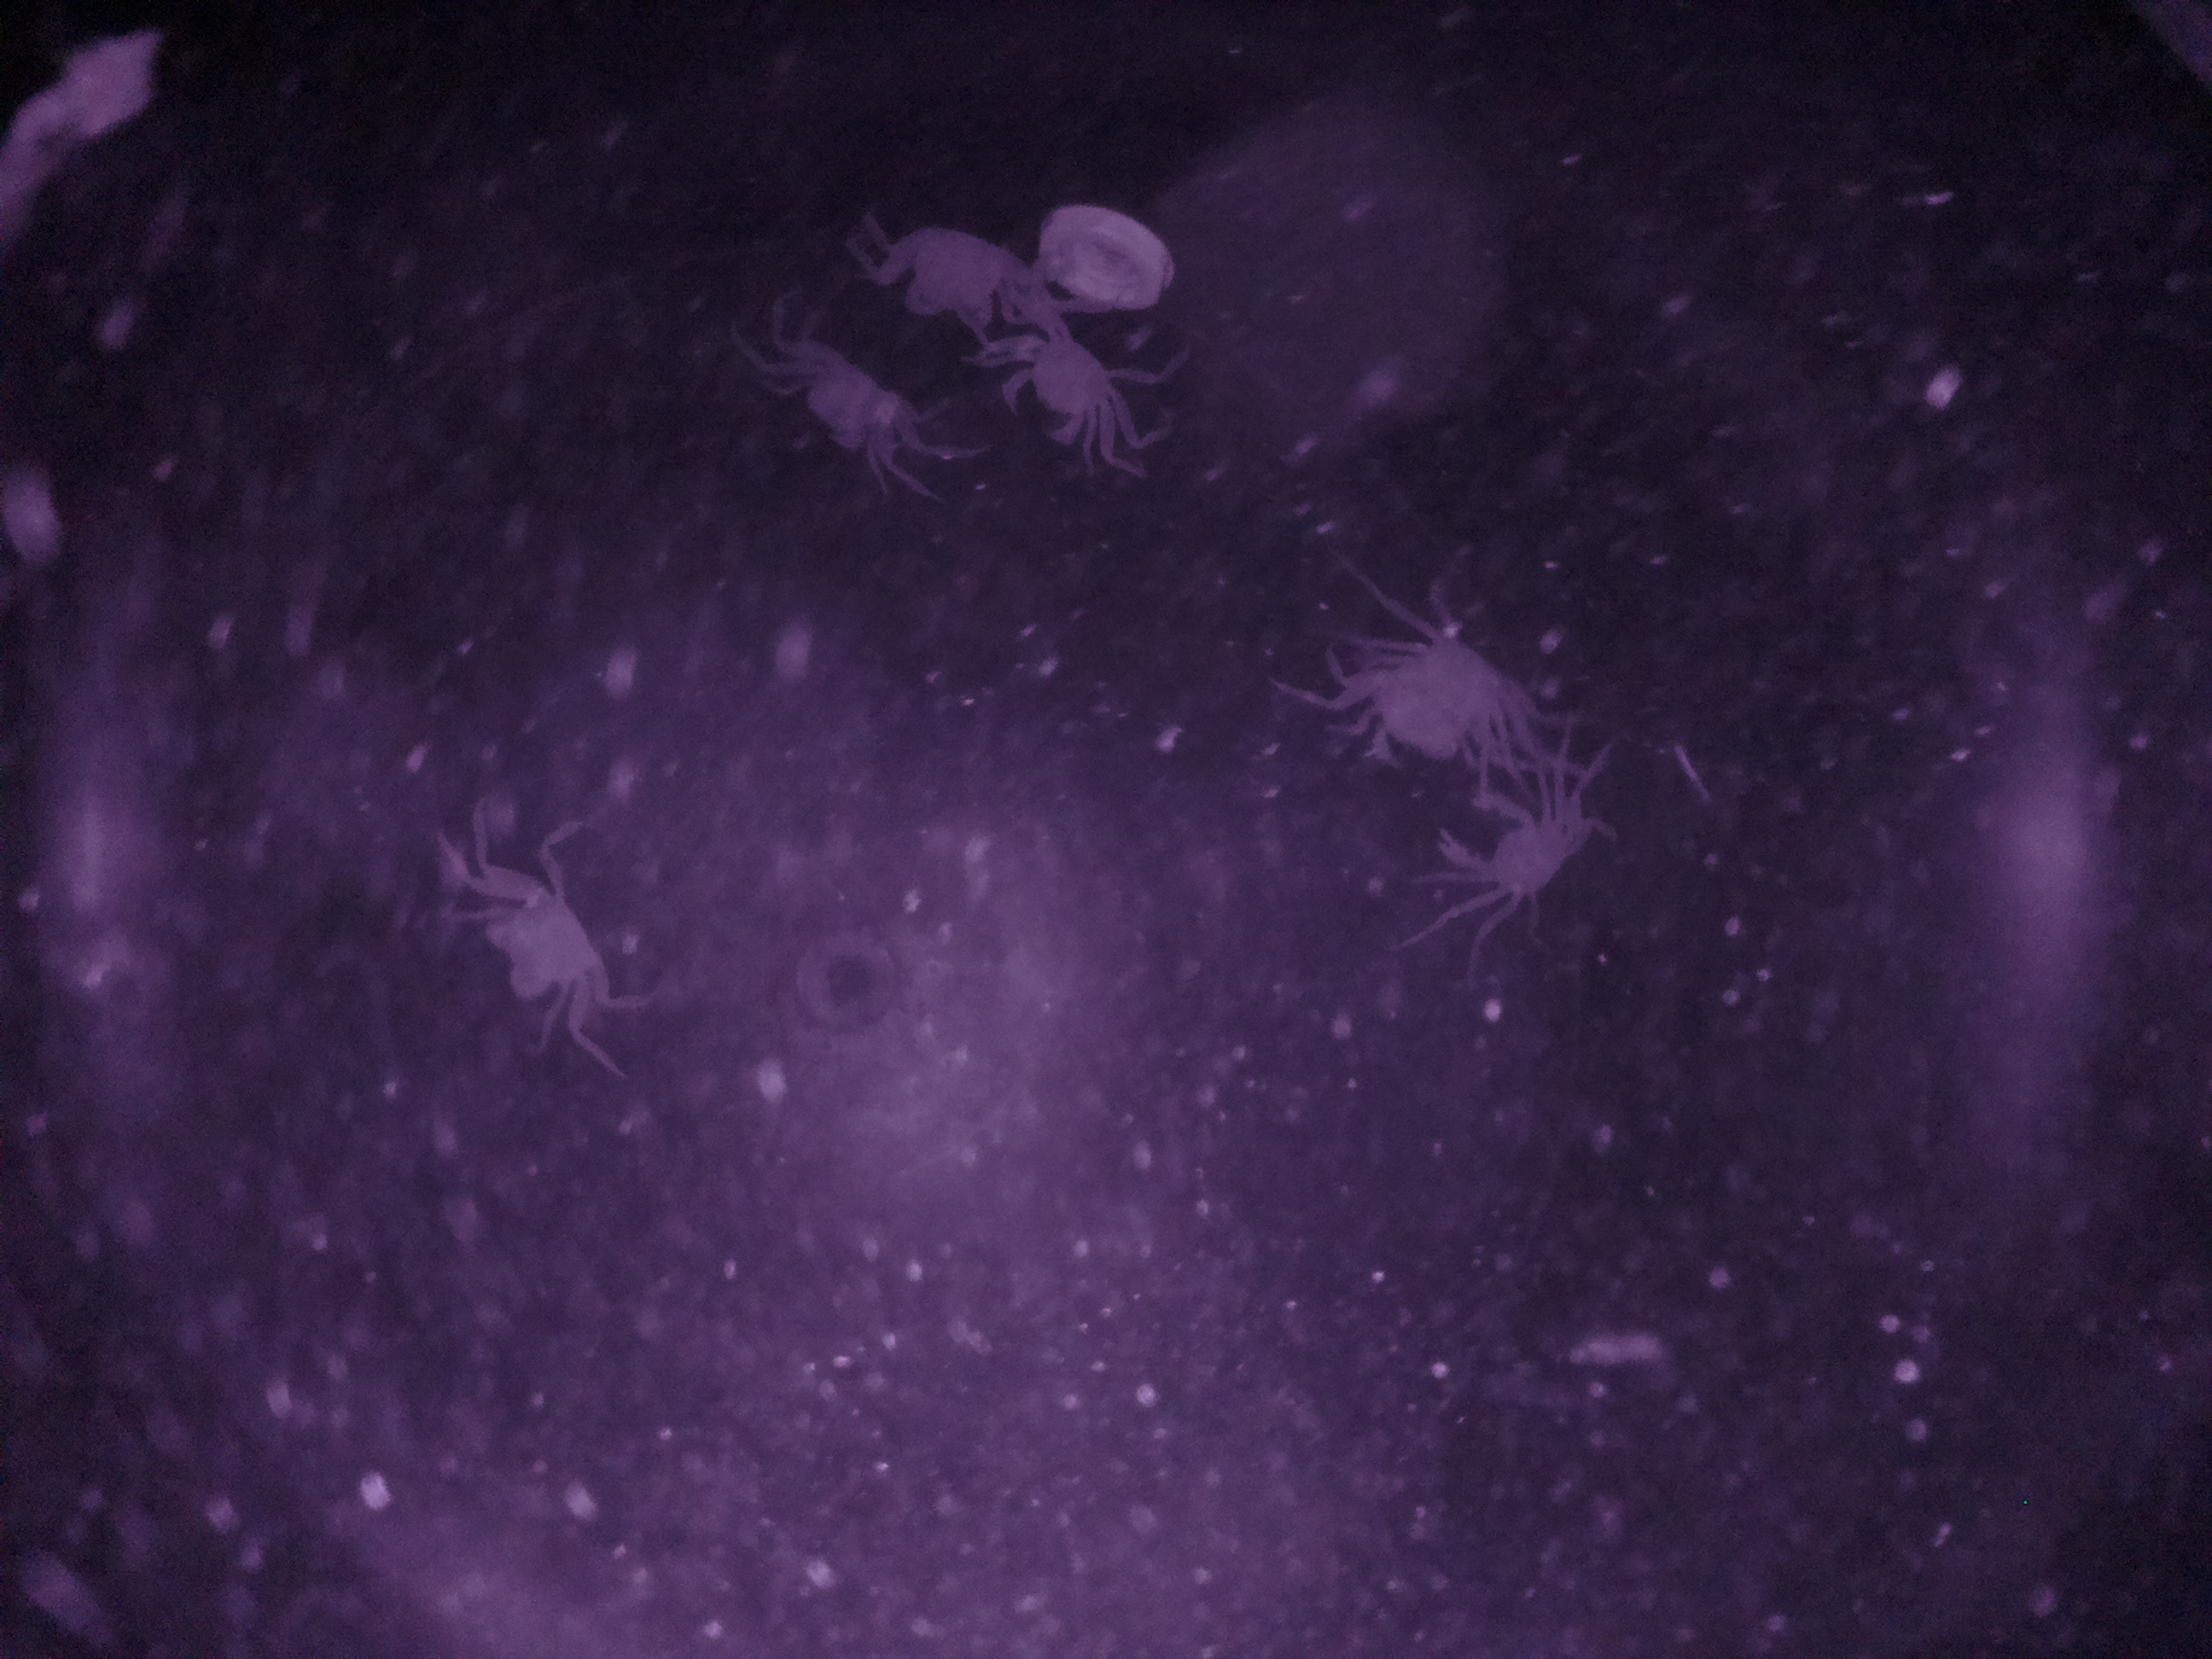Crab: (456, 817, 636, 1053), (749, 284, 928, 486), (996, 281, 1143, 483), (1425, 767, 1597, 932)
